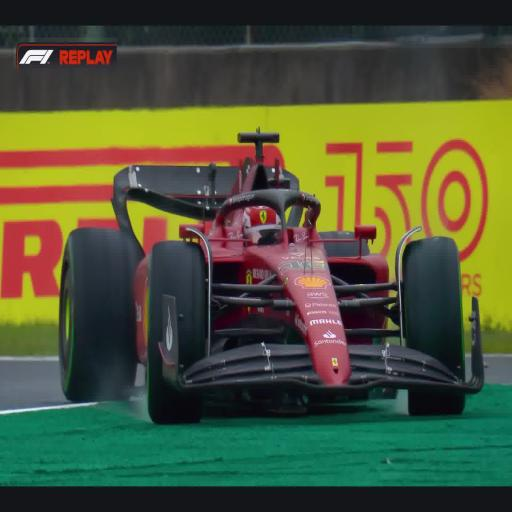f1_car: (59, 130, 483, 422)
